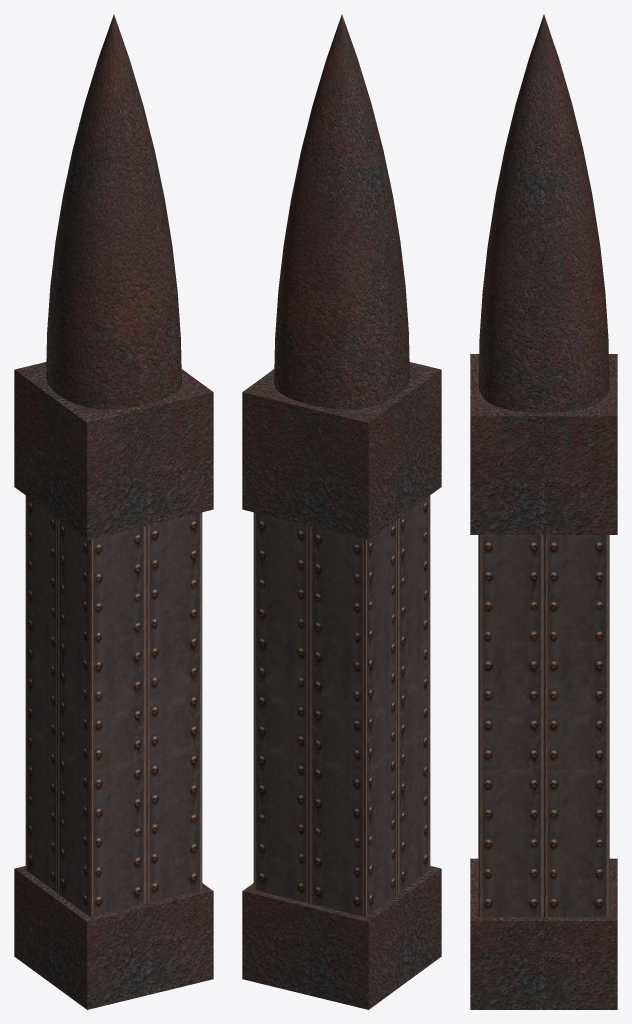
Rendered from 14gate-post.obj.
The picture shows the model from 3 angles, left to right: view 1: azimuth 30°, elevation 25°; view 2: azimuth 150°, elevation 25°; view 3: azimuth 270°, elevation 25°; orthographic projection.
Visible parts, largest first — view 1: entity0_brush2, entity0_patch0, entity0_brush1, entity0_brush3; view 2: entity0_brush2, entity0_patch0, entity0_brush1, entity0_brush3; view 3: entity0_brush2, entity0_patch0, entity0_brush1, entity0_brush3.
Part boxes in pixels (x1=…): entity0_brush2: x1=25, y1=495, x2=202, y2=917; entity0_patch0: x1=46, y1=14, x2=181, y2=409; entity0_brush1: x1=14, y1=362, x2=213, y2=540; entity0_brush3: x1=14, y1=866, x2=213, y2=1009; entity0_brush2: x1=253, y1=495, x2=430, y2=917; entity0_patch0: x1=274, y1=14, x2=409, y2=409; entity0_brush1: x1=242, y1=362, x2=441, y2=540; entity0_brush3: x1=242, y1=866, x2=441, y2=1009; entity0_brush2: x1=478, y1=535, x2=609, y2=917; entity0_patch0: x1=478, y1=14, x2=609, y2=412; entity0_brush1: x1=470, y1=354, x2=617, y2=534; entity0_brush3: x1=470, y1=858, x2=617, y2=1009.
Bounding box in the file's own units: 72 × 520 × 72.
